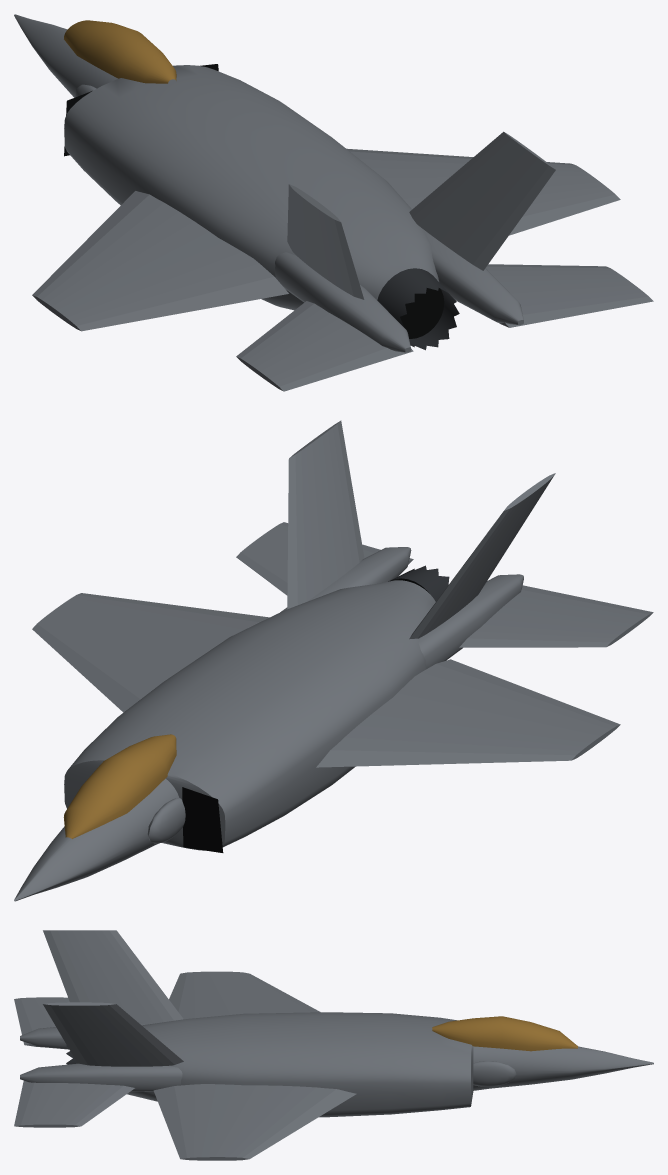
3 renders of one model, top to bottom at view 1: azimuth 30°, elevation 25°; view 2: azimuth 150°, elevation 25°; view 3: azimuth 270°, elevation 25°, orthographic. The views are drawn at different scales.
Parts seen in each view (by area): view 1: Fuselage, Wing_L, Fin_R, Stab_L, Wing_R, Stab_R, Boom_L, Fin_L, Canopy, Boom_R, Nozzle, NozzleFace; view 2: Fuselage, Wing_L, Wing_R, Fin_R, Stab_L, Canopy, Fin_L, Boom_L, Stab_R, Intake_L, Boom_R, DSI_L (+1 smaller); view 3: Fuselage, Wing_R, Fin_L, Fin_R, Wing_L, Stab_R, Canopy, Boom_R, Stab_L, DSI_R, Boom_L.
Boxes of the visible parts, x1,y1,x2,y2 form: Fuselage: (14, 14, 439, 310); Wing_L: (32, 191, 288, 331); Fin_R: (409, 131, 555, 270); Stab_L: (236, 301, 413, 391); Wing_R: (346, 148, 620, 235); Stab_R: (486, 264, 653, 327); Boom_L: (275, 252, 411, 352); Fin_L: (287, 184, 364, 299); Canopy: (64, 20, 176, 83); Boom_R: (423, 229, 523, 324); Nozzle: (377, 268, 459, 350); NozzleFace: (400, 288, 444, 338); Fuselage: (14, 580, 435, 901); Wing_L: (316, 659, 620, 767); Wing_R: (32, 593, 269, 712); Fin_R: (287, 420, 364, 609); Stab_L: (459, 585, 653, 647); Canopy: (63, 734, 176, 838); Fin_L: (409, 473, 555, 639); Boom_L: (418, 574, 523, 668); Stab_R: (236, 522, 413, 595); Intake_L: (182, 787, 223, 852); Boom_R: (280, 547, 411, 612); DSI_L: (147, 798, 185, 843); Fuselage: (127, 1012, 653, 1117); Wing_R: (153, 1084, 356, 1160); Fin_L: (43, 930, 183, 1022); Fin_R: (43, 1002, 183, 1066); Wing_L: (169, 971, 320, 1019); Stab_R: (14, 1081, 134, 1127); Canopy: (432, 1016, 577, 1051); Boom_R: (20, 1063, 182, 1091); Stab_L: (14, 997, 69, 1047); DSI_R: (473, 1061, 516, 1086); Boom_L: (20, 1022, 159, 1049).
Bounding box in the file's own units: 10.7 × 3.46 × 15.6.
